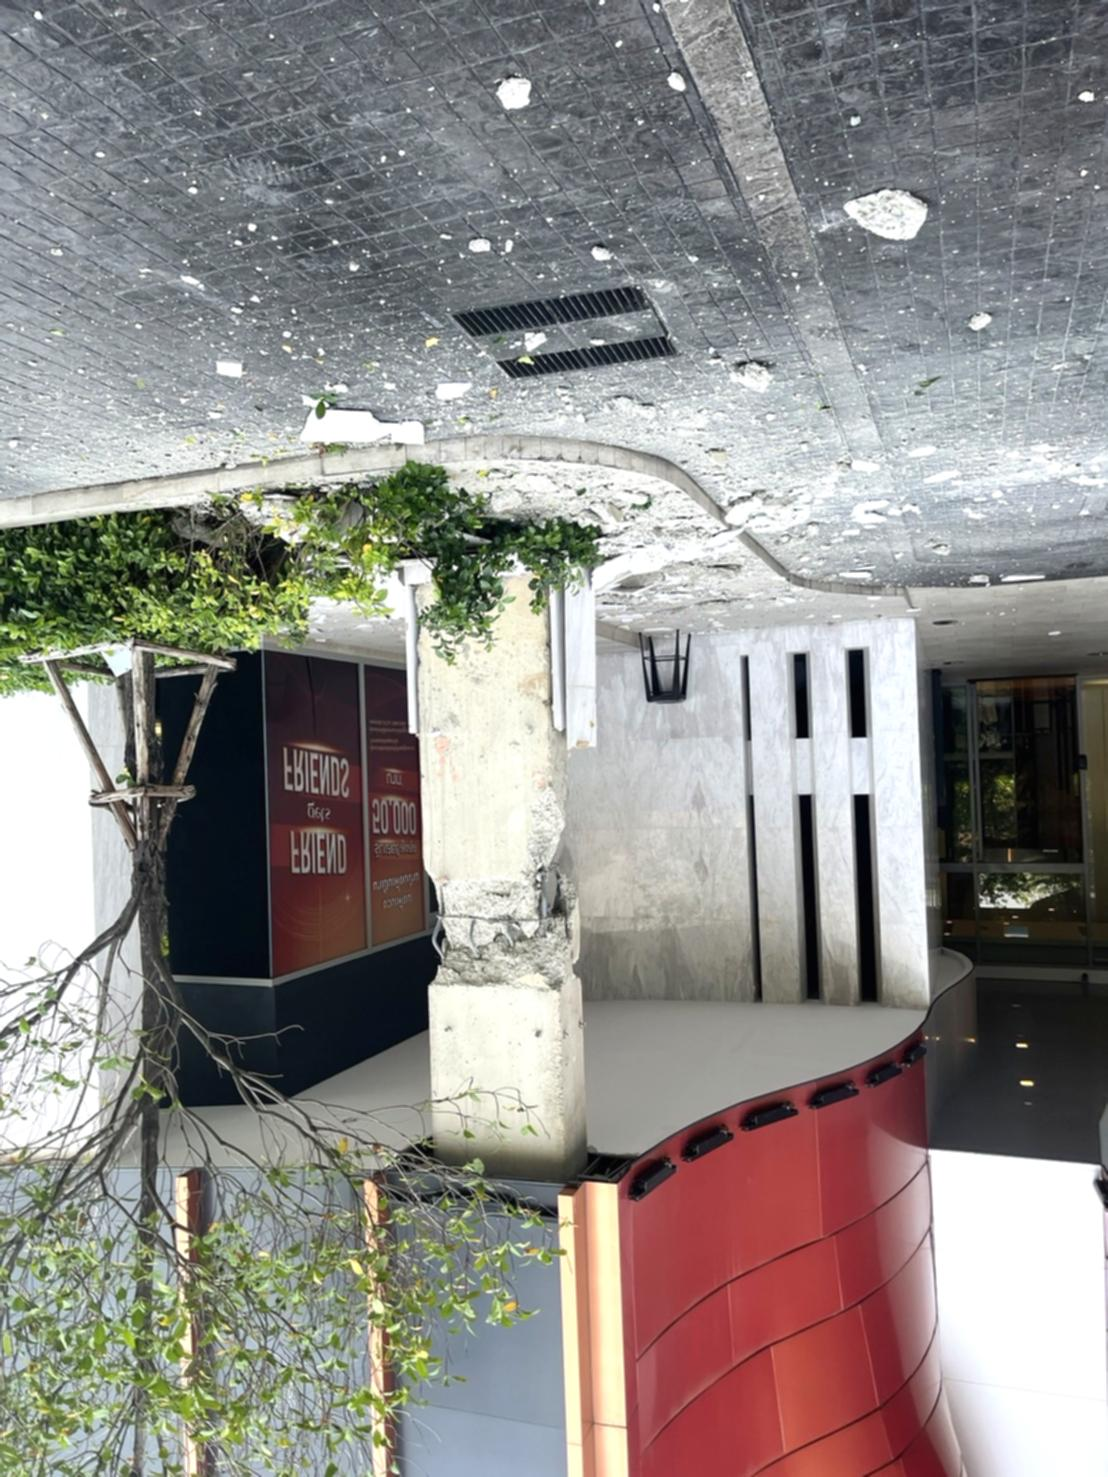High: (413, 776, 594, 1176)
